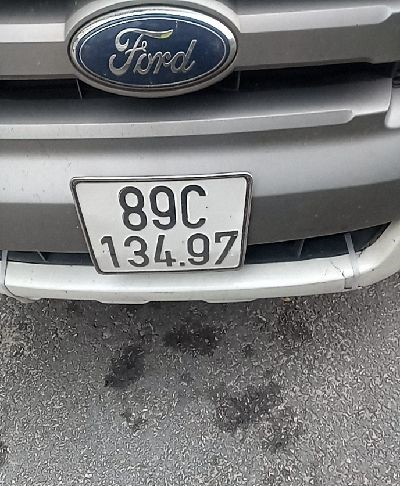number_plate: (57, 170, 269, 287)
